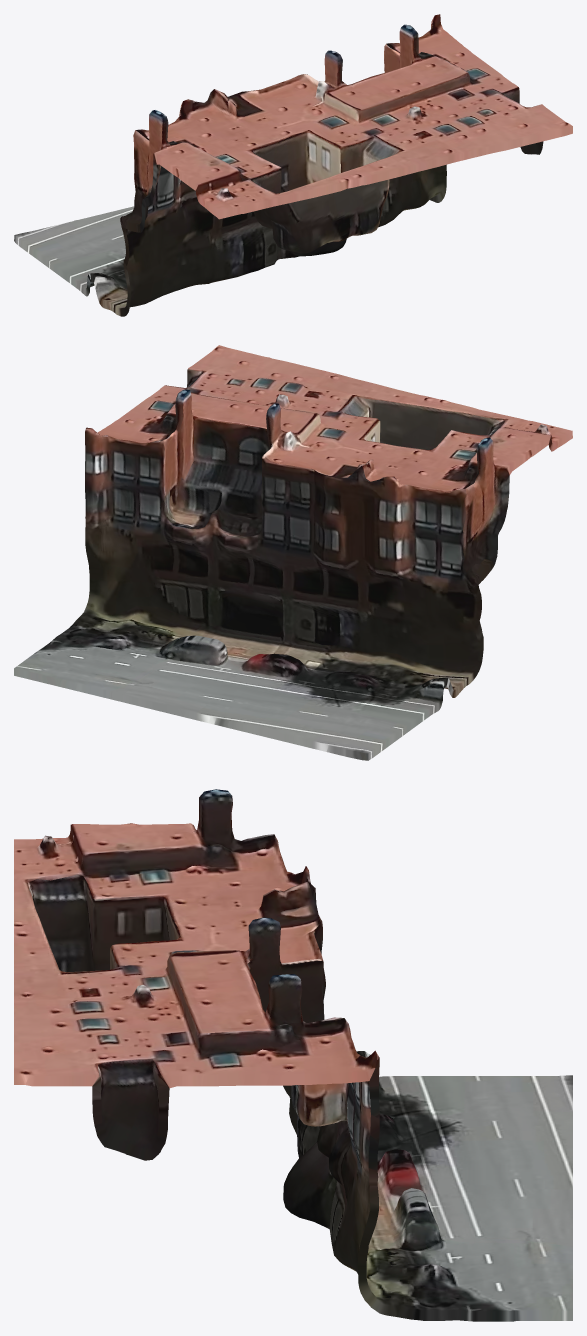
The model's file is z20-167776-405209-h0-yup-uvflip-v3-world.glb.
3 views of the same model, one above another, from view 1: azimuth 30°, elevation 25°; view 2: azimuth 150°, elevation 25°; view 3: azimuth 270°, elevation 25° (orthographic). The views are drawn at different scales.
Size of the model in its own units: 30.2 by 18.32 by 30.32.
Materials: 1 (1 with a texture image).
